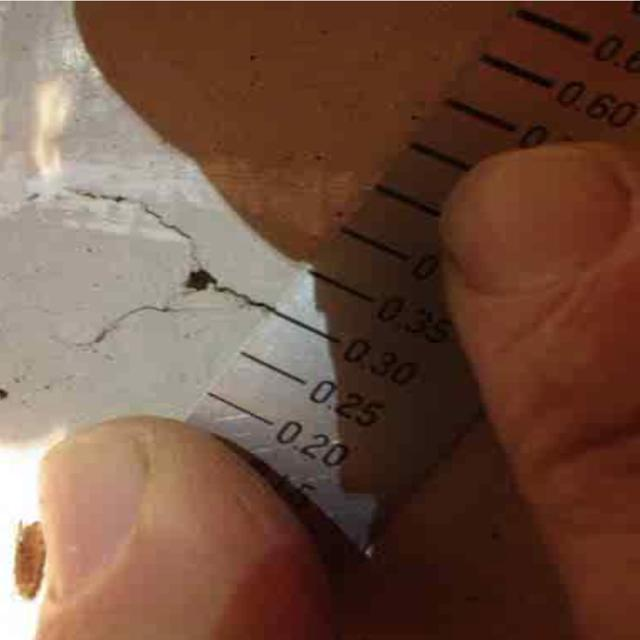crack: (40, 174, 264, 347)
